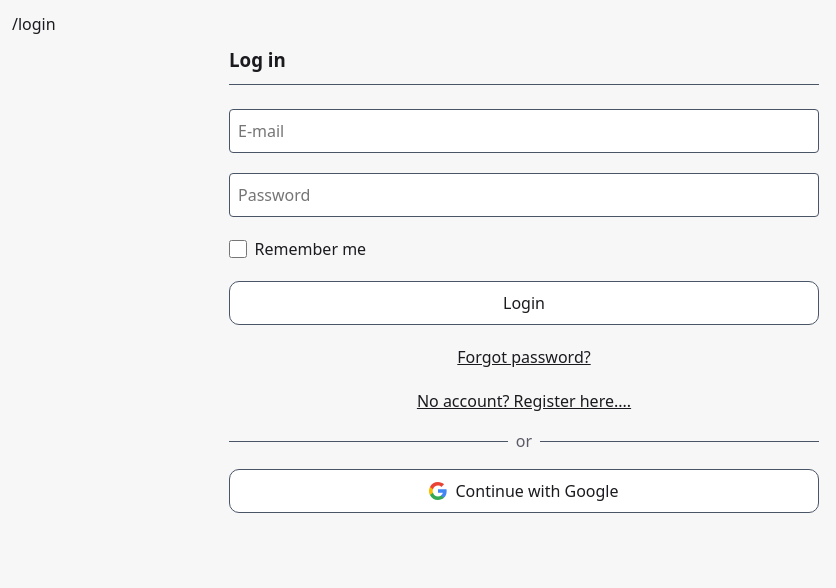
Test: LoginPage › shows the distinct disabled message when the account is disabled (FR-013)
In the field labelled "E-mail": (524, 131) x1=229 y1=109 x2=819 y2=153, type "ada@example.com"
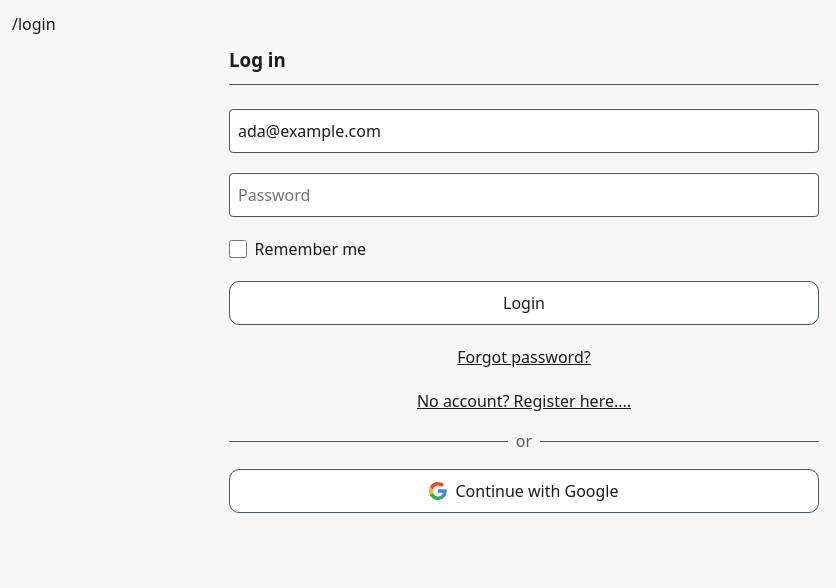
In the password field labelled "Password": (524, 195) x1=229 y1=173 x2=819 y2=217, type "Password1"
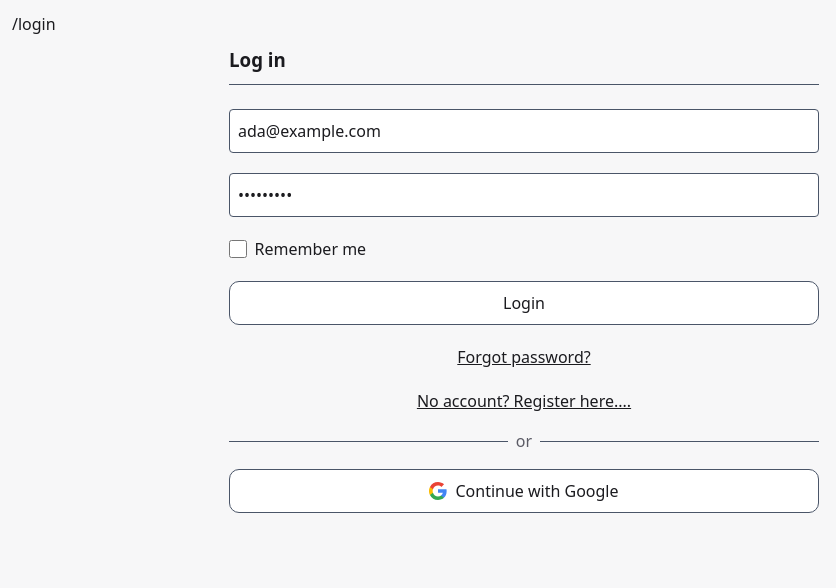
Click the button "Login": (524, 303) x1=229 y1=281 x2=819 y2=325
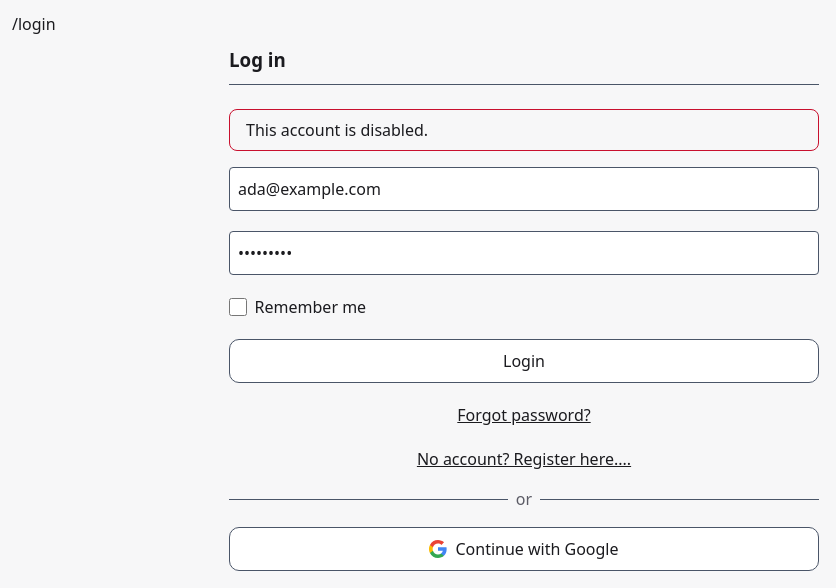
Expected: the text "This account is disabled." is shown, x1=229 y1=109 x2=819 y2=151
